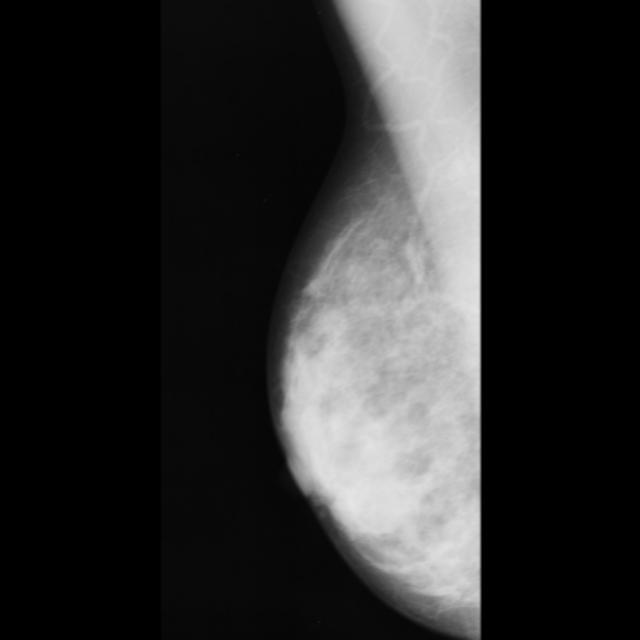ARCH: (391, 232, 432, 273)
